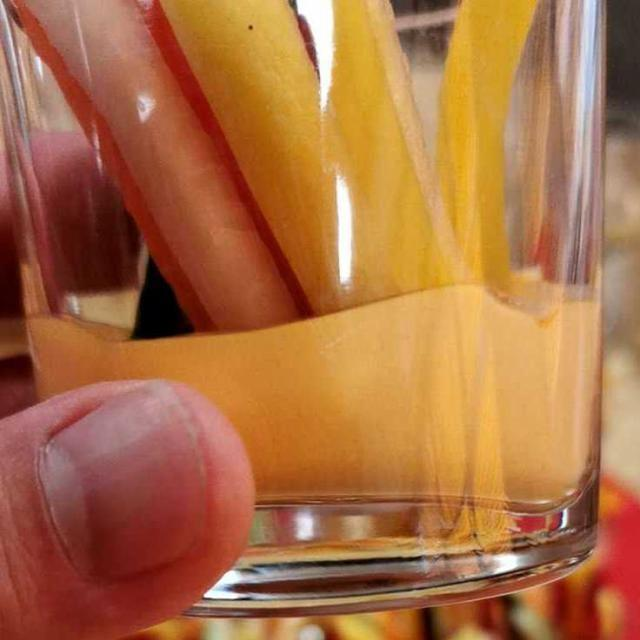mixed-vegetables: (26, 2, 572, 326)
sauce: (23, 296, 606, 518)
